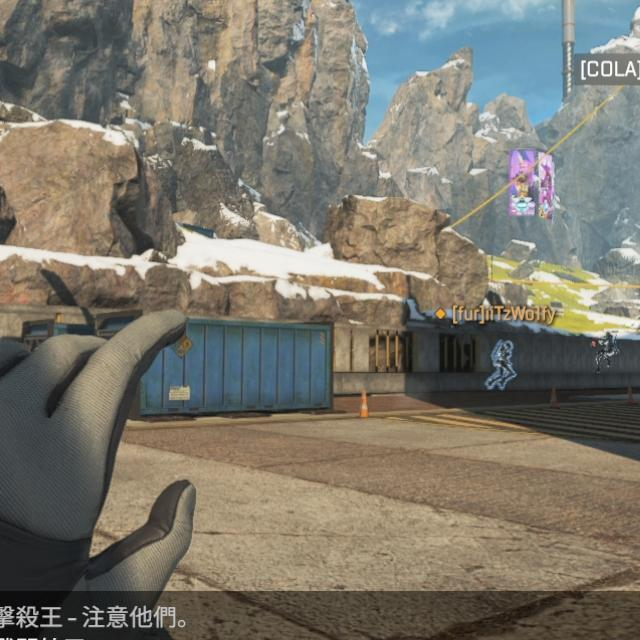avatar: (486, 336, 517, 393)
